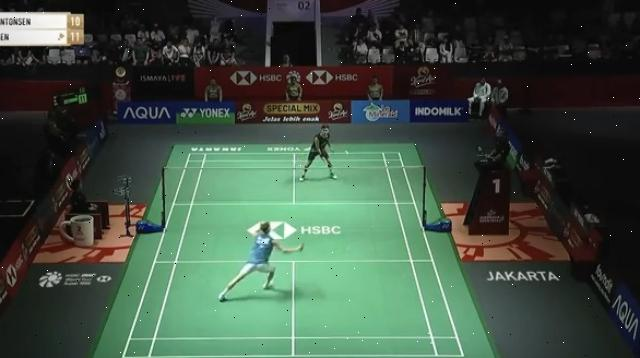Shuttlecock: (342, 146, 352, 158)
